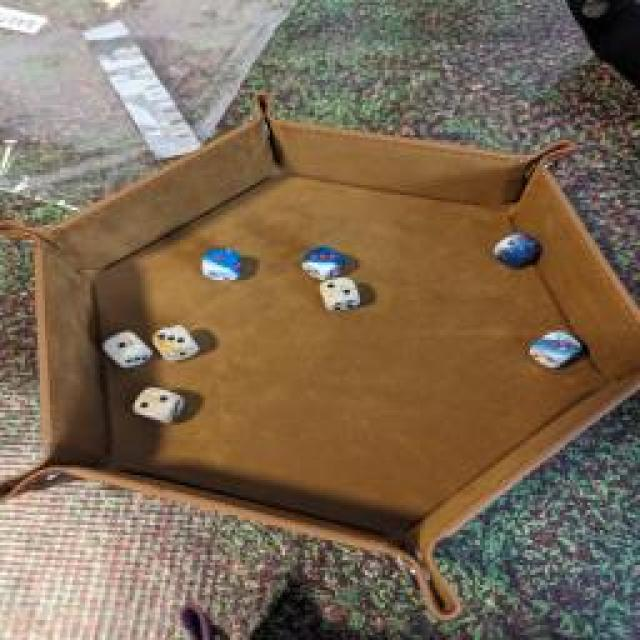dice_1: (194, 245, 244, 285), (102, 330, 146, 368)
dice_2: (129, 382, 189, 428), (311, 275, 361, 315)
dice_3: (530, 328, 580, 370), (298, 242, 348, 282), (151, 322, 201, 362)
dice_4: (492, 228, 536, 268)
